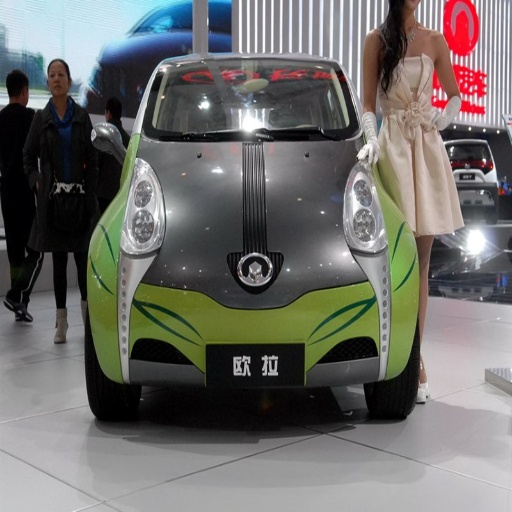front_bumper: (122, 256, 408, 409)
trunk: (146, 143, 348, 304)
